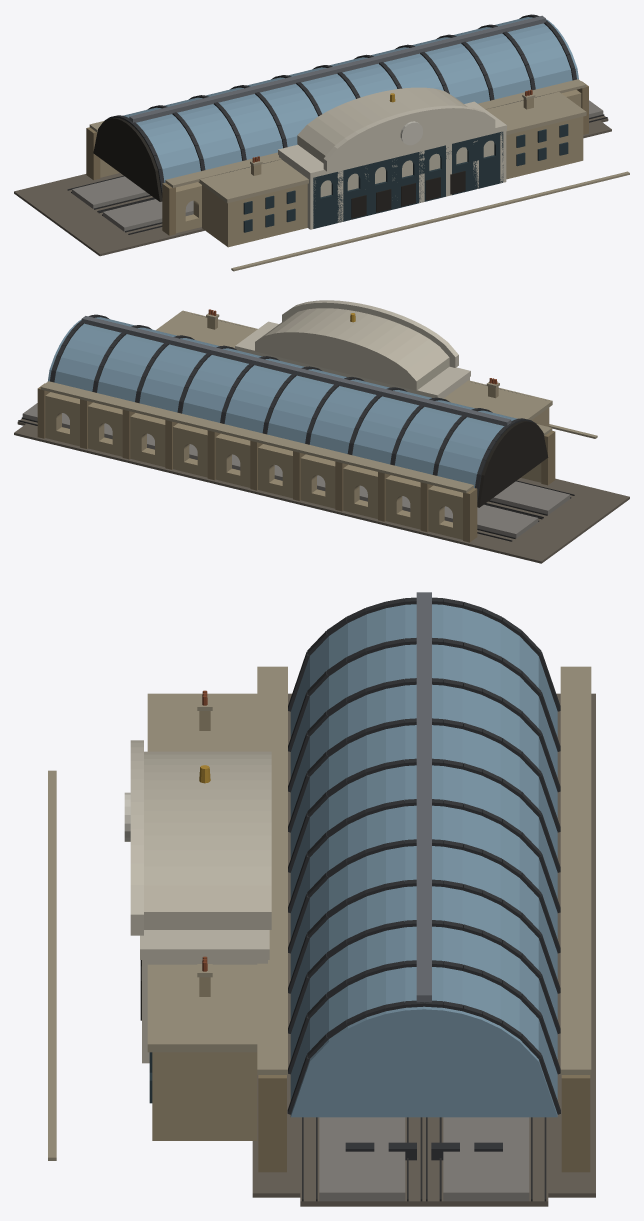
Rendered from fenchurch_street_station.glb.
The picture shows the model from 3 angles, top to bottom: view 1: azimuth 30°, elevation 25°; view 2: azimuth 150°, elevation 25°; view 3: azimuth 270°, elevation 25°; orthographic projection. The views are drawn at different scales.
Parts seen in each view (by area): view 1: fenchurch_street_station; view 2: fenchurch_street_station; view 3: fenchurch_street_station.
Part boxes in pixels (x1,y1,x2,y2): fenchurch_street_station: (14,14,629,271); fenchurch_street_station: (14,300,629,563); fenchurch_street_station: (48,592,595,1206).
Size of the model in its own units: 126 by 23.8 by 57.45.
